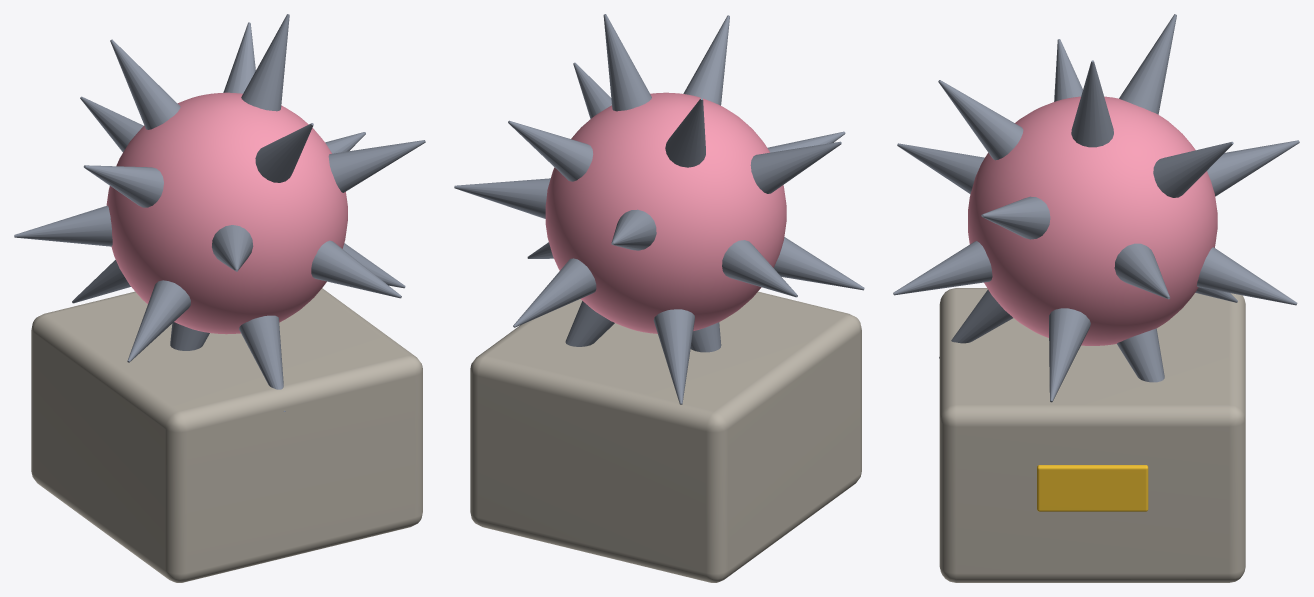
Rendered from spiky.glb.
3 renders of one model, left to right at view 1: azimuth 30°, elevation 25°; view 2: azimuth 150°, elevation 25°; view 3: azimuth 270°, elevation 25°, orthographic. The views are drawn at different scales.
Visible parts, largest first — view 1: spiky; view 2: spiky; view 3: spiky.
Part boxes in pixels (x1,y1,x2,y2): spiky: (14, 14, 425, 582); spiky: (454, 14, 864, 582); spiky: (893, 14, 1299, 582).
Bounding box in the file's own units: 1.49 × 1.96 × 1.46.
Materials: 1 (1 with a texture image).
